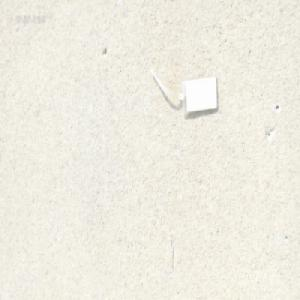LuggageTag: (149, 59, 220, 118)
